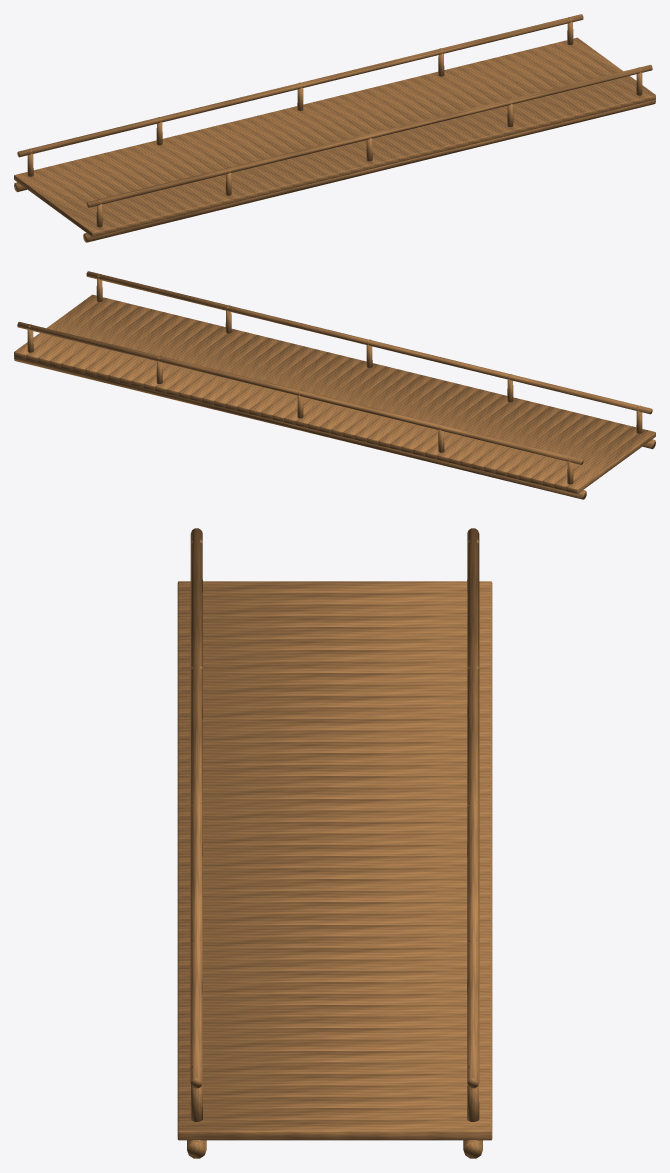
Rendered from wooden_footbridge.glb.
3 views of the same model, one above another, from view 1: azimuth 30°, elevation 25°; view 2: azimuth 150°, elevation 25°; view 3: azimuth 270°, elevation 25° (orthographic). The views are drawn at different scales.
Parts seen in each view (by area): view 1: wooden_footbridge.001; view 2: wooden_footbridge.001; view 3: wooden_footbridge.001.
Part boxes in pixels (<box>): wooden_footbridge.001: <box>14,14,655,242</box>; wooden_footbridge.001: <box>14,271,655,499</box>; wooden_footbridge.001: <box>177,528,492,1158</box>.
Size of the model in its own units: 24.2 by 1.6 by 5.8.
1 material, 1 textured.
